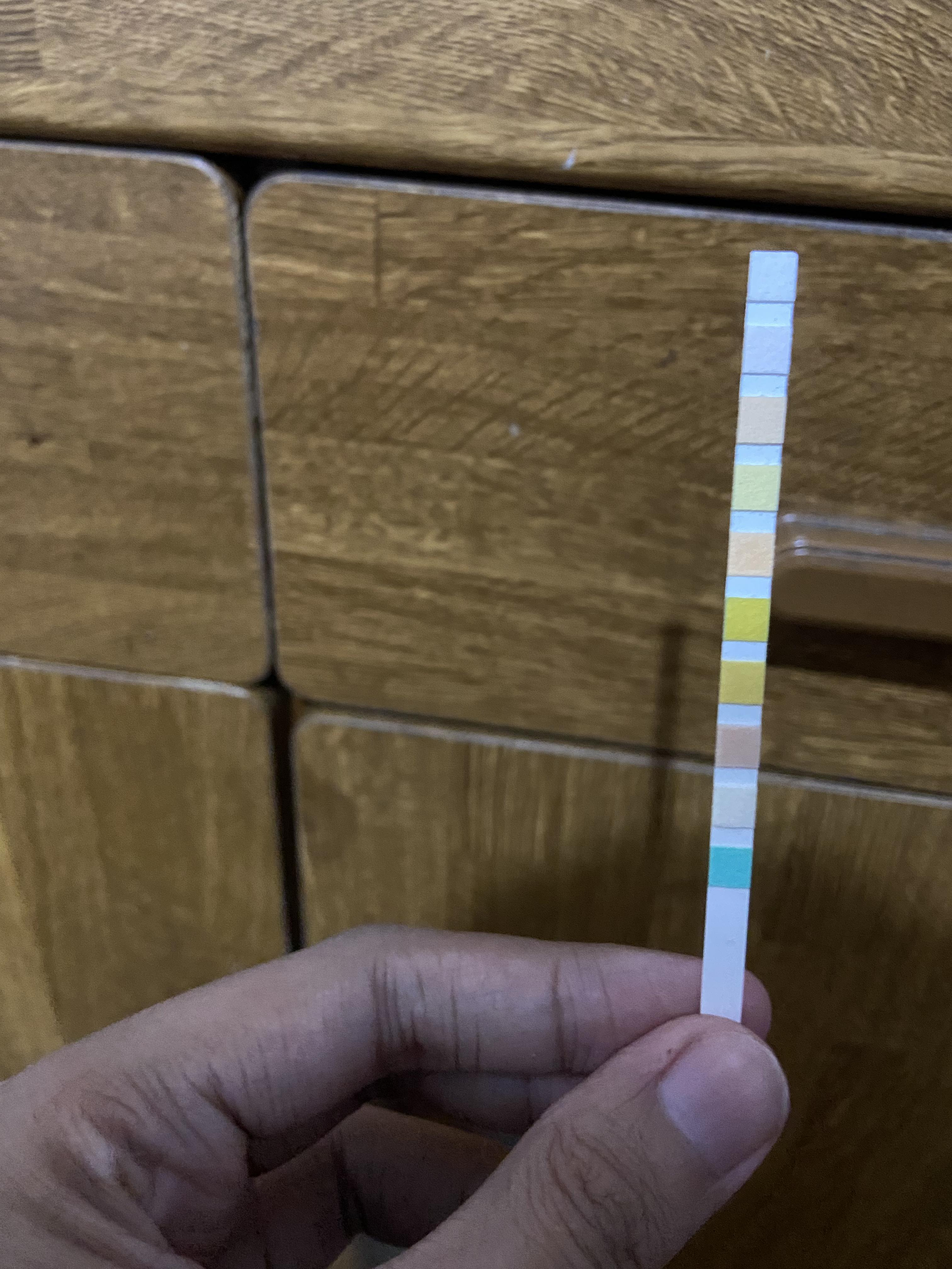Bilirubin: (717, 786, 756, 826)
Blood: (726, 600, 767, 639)
Glucose: (712, 848, 751, 886)
Ketone: (718, 726, 759, 767)
Leukocytes: (750, 255, 795, 301)
Nitrite: (746, 328, 789, 372)
Protein: (736, 467, 779, 508)
SpGravity: (723, 662, 762, 704)
Urobilinogen: (740, 398, 784, 443)
pH: (731, 536, 773, 574)
strip: (702, 251, 801, 1022)
